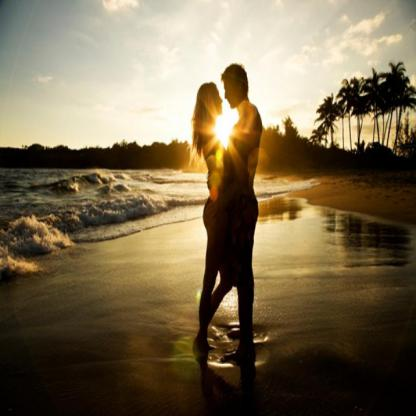face: (225, 80, 240, 109), (212, 87, 224, 117)
